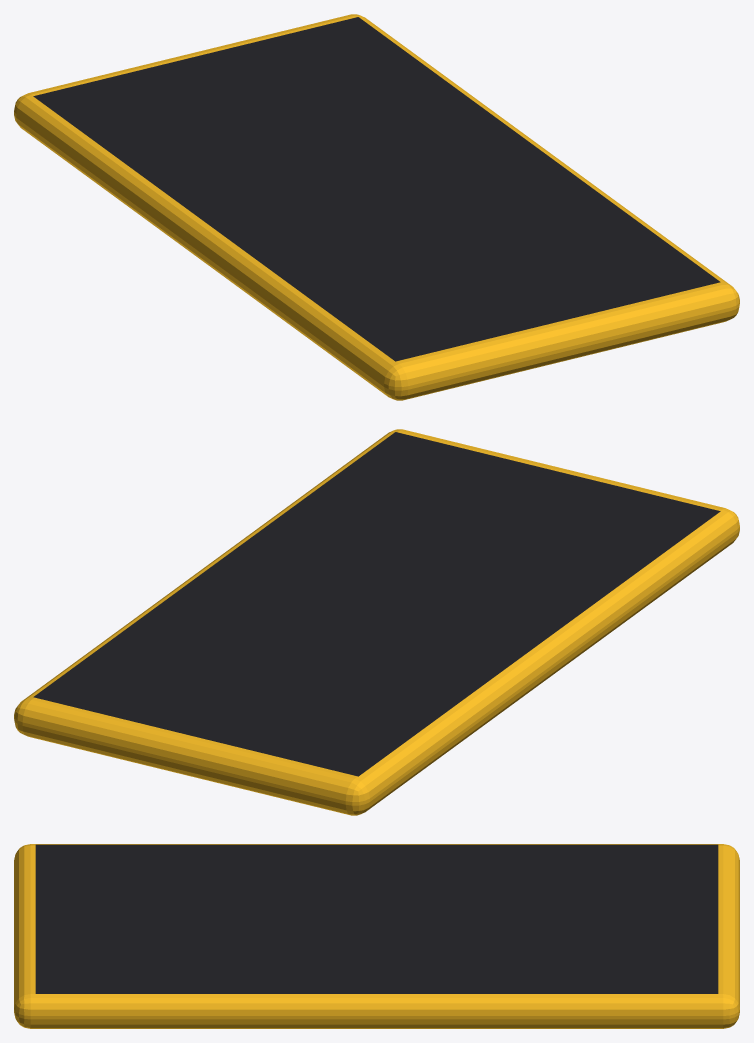
The model's file is iqoo-neo-model-186-flagship-2022.glb.
3 renders of one model, top to bottom at view 1: azimuth 30°, elevation 25°; view 2: azimuth 150°, elevation 25°; view 3: azimuth 270°, elevation 25°, orthographic. The views are drawn at different scales.
Parts seen in each view (by area): view 1: Phone_Screen, Phone_Body; view 2: Phone_Screen, Phone_Body; view 3: Phone_Screen, Phone_Body.
Part boxes in pixels (x1=…): Phone_Screen: x1=33, y1=17, x2=720, y2=361; Phone_Body: x1=14, y1=14, x2=739, y2=400; Phone_Screen: x1=33, y1=432, x2=720, y2=776; Phone_Body: x1=14, y1=429, x2=739, y2=815; Phone_Screen: x1=35, y1=844, x2=718, y2=993; Phone_Body: x1=14, y1=844, x2=739, y2=1028.
Bounding box in the file's own units: 0.0761 × 0.0074 × 0.1437.
